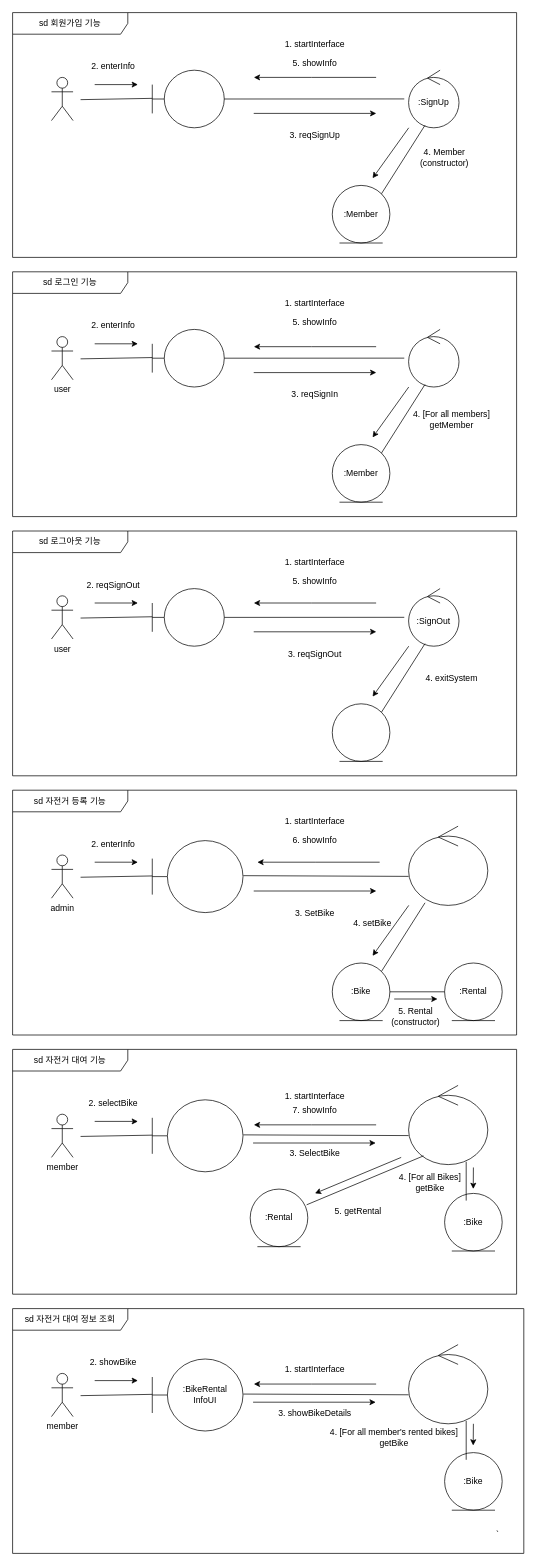
The diagram is 536 pixels wide and 1566 high, and some of its shapes have lost their labels. The centre of each missing label's shape, as x and y in pixels:
:BikeRegister: (x=448, y=865)
:BikeRegisterUI: (x=197, y=876)
:BikeRental: (x=448, y=1125)
:BikeRentalInfo: (x=448, y=1384)
:BikeRentalUI: (x=197, y=1135)
:SignIn: (x=433, y=358)
:SignInUI: (x=188, y=358)
:SignOutUI: (x=188, y=617)
:SignUpUI: (x=188, y=98)
:System: (x=361, y=732)
guest: (x=62, y=99)
